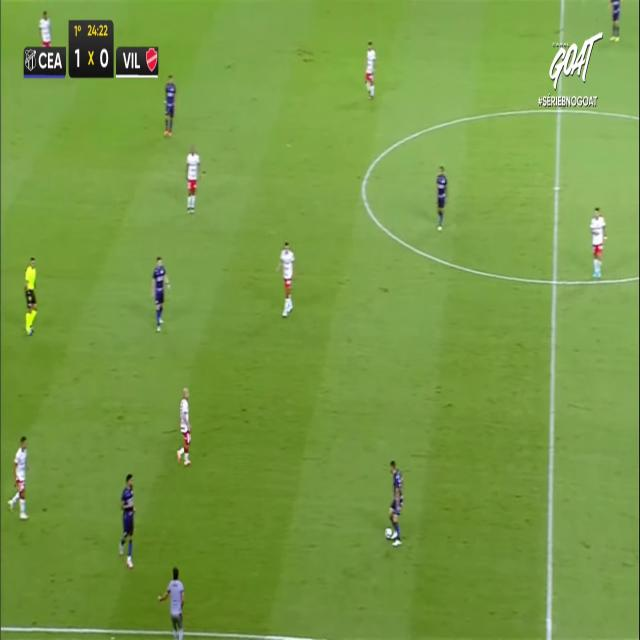ball: (384, 524, 397, 546)
player: (8, 435, 29, 518), (119, 474, 136, 568), (386, 459, 404, 544), (151, 255, 170, 330), (276, 241, 294, 316), (176, 387, 192, 465), (590, 206, 607, 278), (186, 144, 201, 212), (163, 74, 176, 137), (435, 165, 447, 231), (365, 40, 376, 97), (37, 9, 53, 48), (607, 0, 621, 41)
referee: (24, 256, 38, 335)
